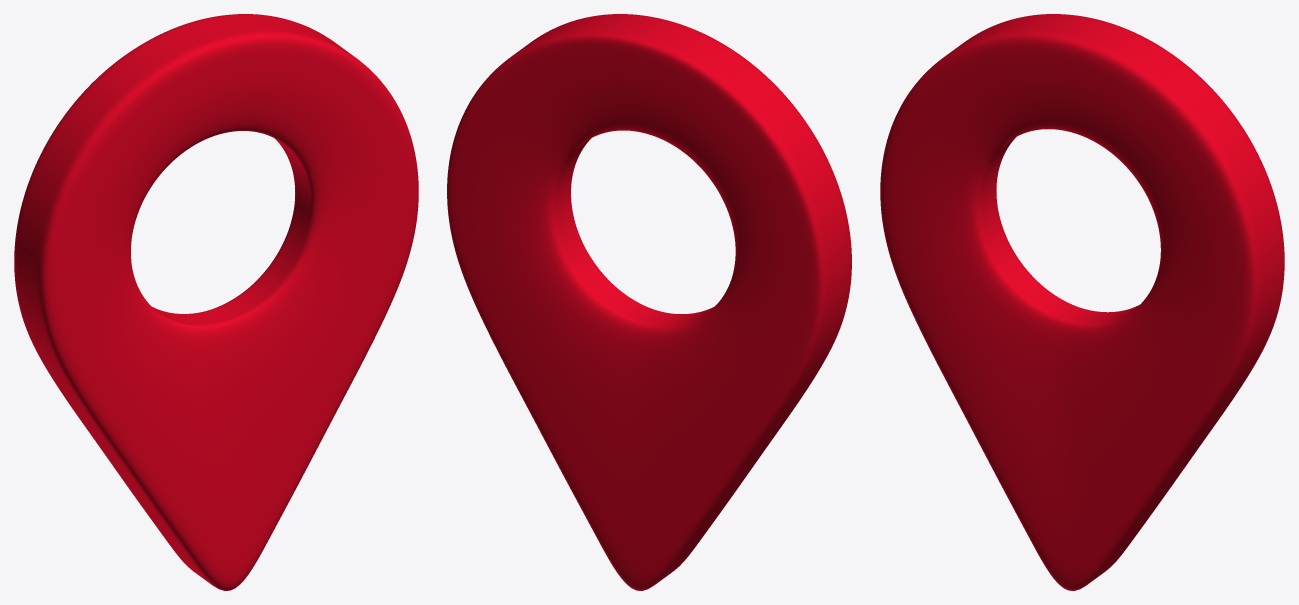
File: location.gltf
3 renders of one model, left to right at view 1: azimuth 30°, elevation 25°; view 2: azimuth 150°, elevation 25°; view 3: azimuth 330°, elevation 25°, orthographic.
Parts seen in each view (by area): view 1: Object_2; view 2: Object_2; view 3: Object_2.
Boxes of the visible parts, bbox=[...] form: Object_2: bbox=[14, 14, 418, 590]; Object_2: bbox=[447, 14, 851, 590]; Object_2: bbox=[880, 14, 1284, 590].
Size of the model in its own units: 2.6 by 3.63 by 0.3956.
